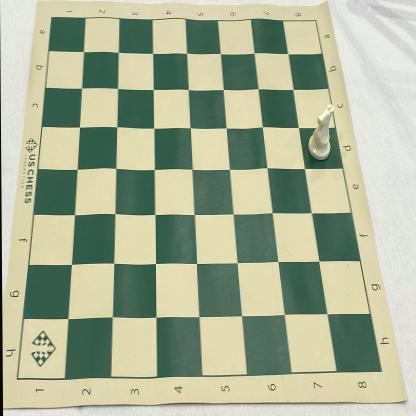white-knight: (308, 103, 335, 162)
